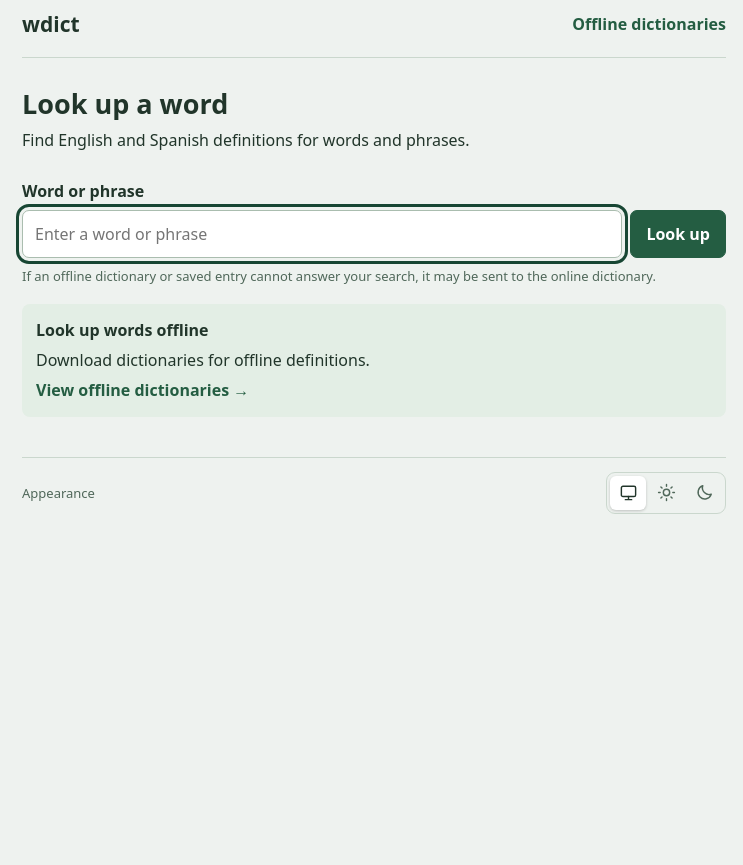
Test: lookup and offline dictionary UI › given_two_found_outcomes_when_search_completes_then_both_languages_are_labelled
Step 1. Click the button "Look up" → point(678, 234), box left=630, top=210, right=726, bottom=258
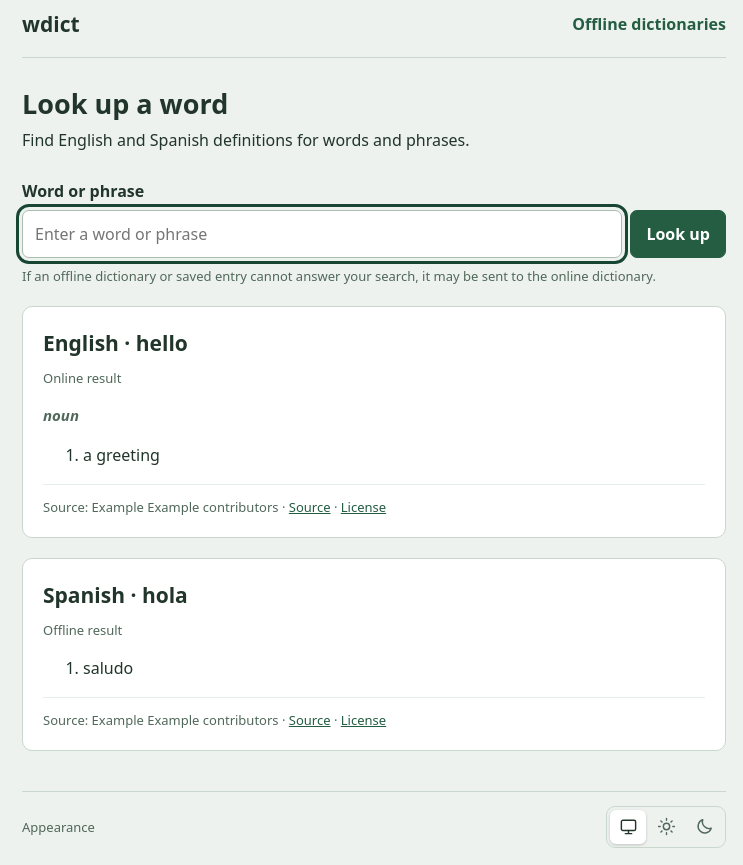
Now the list item "saludo" is shown, box left=83, top=657, right=133, bottom=679
Now the heading "English · hello" is shown, box left=43, top=330, right=188, bottom=358
Now the heading "Spanish · hola" is shown, box left=43, top=581, right=188, bottom=609
